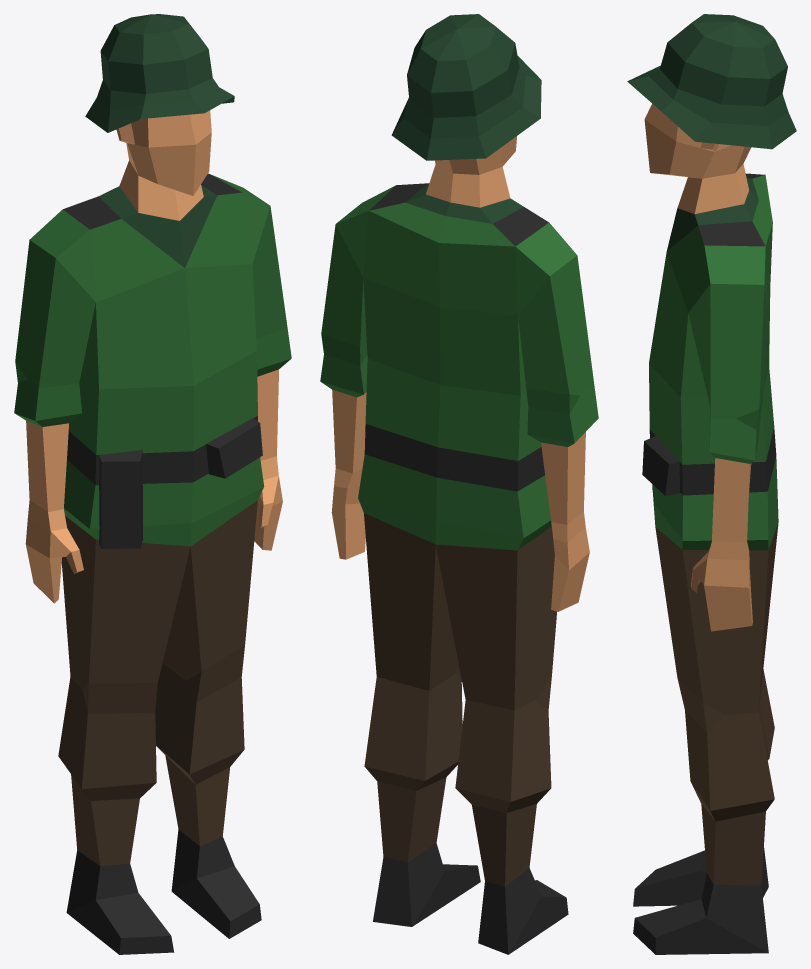
File: man-soldier-ge.glb
3 views of the same model, side by side, from view 1: azimuth 30°, elevation 25°; view 2: azimuth 150°, elevation 25°; view 3: azimuth 270°, elevation 25° (orthographic).
Parts seen in each view (by area): view 1: man-soldier-ge; view 2: man-soldier-ge; view 3: man-soldier-ge.
Boxes of the visible parts, x1,y1,x2,y2 form: man-soldier-ge: (14,14,291,954); man-soldier-ge: (320,14,598,954); man-soldier-ge: (627,14,796,954).
Size of the model in its own units: 0.5603 by 1.87 by 0.3199.
Materials: 1 (1 with a texture image).
